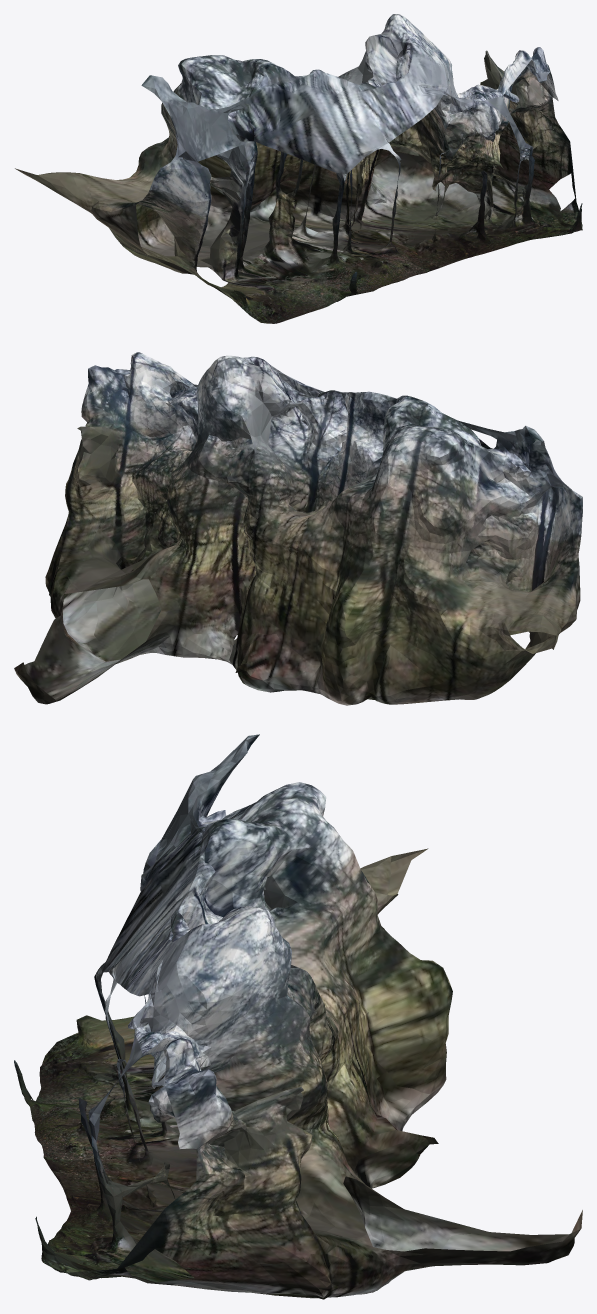
Rendered from forest-path-side-03.fbx.
3 views of the same model, one above another, from view 1: azimuth 30°, elevation 25°; view 2: azimuth 150°, elevation 25°; view 3: azimuth 270°, elevation 25° (orthographic). The views are drawn at different scales.
Parts seen in each view (by area): view 1: meshes[0]; view 2: meshes[0]; view 3: meshes[0].
Part boxes in pixels (x1=…): meshes[0]: x1=15, y1=14, x2=582, y2=323; meshes[0]: x1=14, y1=352, x2=582, y2=705; meshes[0]: x1=14, y1=734, x2=582, y2=1299.
Size of the model in its own units: 6.71 by 3.23 by 4.88.
Materials: 1 (1 with a texture image).
